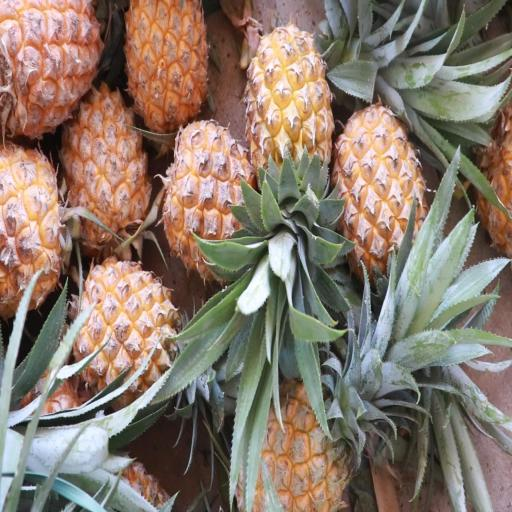Pineapple - v8 v1: (229, 358, 378, 512), (330, 97, 434, 292), (244, 18, 337, 215), (70, 249, 184, 407), (162, 112, 265, 281), (58, 78, 155, 255), (0, 1, 107, 151), (0, 135, 71, 318), (122, 2, 212, 140)
